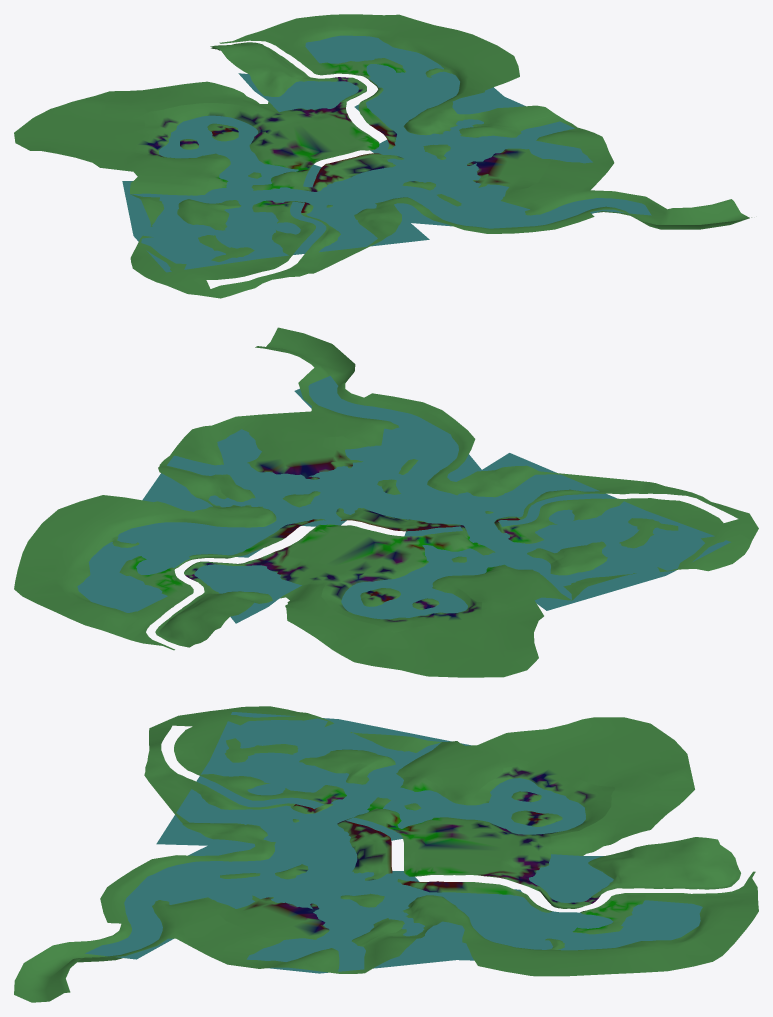
Rendered from codm_jungle_terrain.fbx.
3 renders of one model, top to bottom at view 1: azimuth 30°, elevation 25°; view 2: azimuth 150°, elevation 25°; view 3: azimuth 270°, elevation 25°, orthographic. The views are drawn at different scales.
Visible parts, largest first — view 1: zm_sumpf_water, zm_sumpf_geo_se_03, zm_sumpf_geo_se_05, zm_sumpf_geo_se_01, zm_sumpf_geo_nw_01, zm_sumpf_geo_se_04, zm_sumpf_geo_nw_03, zm_sumpf_geo_nw_02, zm_sumpf_geo_se_06, zm_sumpf_geo_se_02, zm_sumpf_geo_nw_04; view 2: zm_sumpf_water, zm_sumpf_geo_se_03, zm_sumpf_geo_se_01, zm_sumpf_geo_se_05, zm_sumpf_geo_se_04, zm_sumpf_geo_nw_01, zm_sumpf_geo_nw_02, zm_sumpf_geo_nw_03, zm_sumpf_geo_se_06, zm_sumpf_geo_se_02, zm_sumpf_geo_nw_04; view 3: zm_sumpf_water, zm_sumpf_geo_se_03, zm_sumpf_geo_se_05, zm_sumpf_geo_se_01, zm_sumpf_geo_nw_01, zm_sumpf_geo_se_04, zm_sumpf_geo_nw_03, zm_sumpf_geo_nw_02, zm_sumpf_geo_se_02, zm_sumpf_geo_se_06, zm_sumpf_geo_nw_04.
Part boxes in pixels (x1,y1,x2,y2): zm_sumpf_water: [122, 35, 651, 272]; zm_sumpf_geo_se_03: [14, 81, 282, 195]; zm_sumpf_geo_se_05: [398, 105, 751, 233]; zm_sumpf_geo_se_01: [219, 14, 519, 135]; zm_sumpf_geo_nw_01: [130, 77, 366, 158]; zm_sumpf_geo_se_04: [130, 194, 315, 285]; zm_sumpf_geo_nw_03: [295, 121, 550, 212]; zm_sumpf_geo_nw_02: [206, 121, 379, 213]; zm_sumpf_geo_se_06: [167, 198, 405, 298]; zm_sumpf_geo_se_02: [210, 42, 319, 103]; zm_sumpf_geo_nw_04: [303, 58, 405, 123]; zm_sumpf_water: [77, 376, 730, 623]; zm_sumpf_geo_se_03: [285, 569, 571, 677]; zm_sumpf_geo_se_01: [14, 495, 276, 650]; zm_sumpf_geo_se_05: [158, 327, 475, 505]; zm_sumpf_geo_se_04: [528, 498, 751, 600]; zm_sumpf_geo_nw_01: [184, 544, 482, 632]; zm_sumpf_geo_nw_02: [291, 523, 564, 576]; zm_sumpf_geo_nw_03: [211, 436, 519, 538]; zm_sumpf_geo_se_06: [434, 465, 758, 540]; zm_sumpf_geo_se_02: [155, 586, 284, 647]; zm_sumpf_geo_nw_04: [119, 538, 283, 602]; zm_sumpf_water: [85, 712, 702, 973]; zm_sumpf_geo_se_03: [396, 717, 694, 857]; zm_sumpf_geo_se_05: [14, 849, 429, 1002]; zm_sumpf_geo_se_01: [403, 871, 758, 976]; zm_sumpf_geo_nw_01: [464, 761, 614, 908]; zm_sumpf_geo_se_04: [174, 706, 441, 800]; zm_sumpf_geo_nw_03: [215, 804, 467, 946]; zm_sumpf_geo_nw_02: [301, 763, 501, 876]; zm_sumpf_geo_se_02: [588, 837, 740, 890]; zm_sumpf_geo_se_06: [144, 711, 299, 853]; zm_sumpf_geo_nw_04: [466, 882, 651, 934].
Bounding box in the file's own units: 23191 × 931 × 24681.
